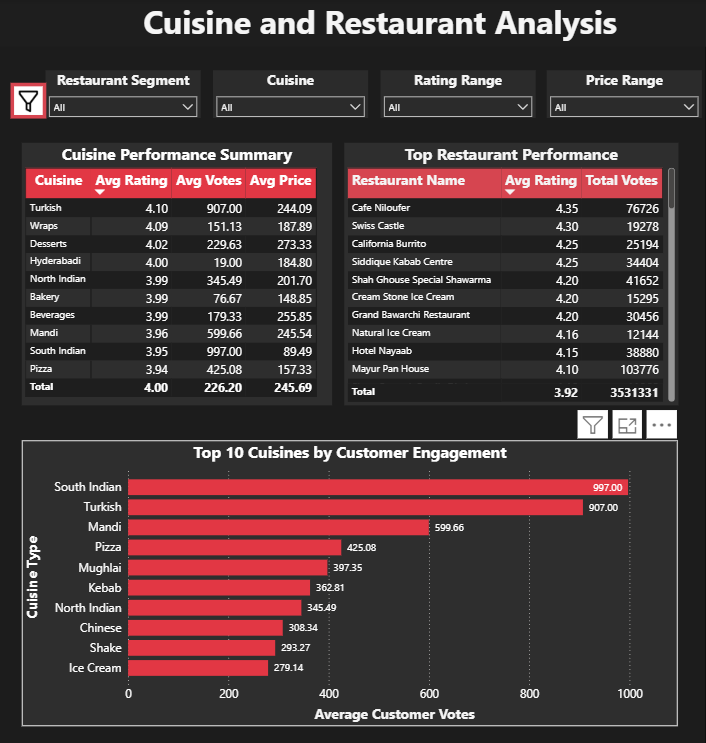

The page's visual inventory and layout, read from the dashboard file:
{"tool":"powerbi","page":{"name":"Page 2","canvas":[950,1000],"ordinal":1},"visuals":[{"type":"pivotTable","title":"Cuisine Performance Summary","fields":{"Rows":["zomato_final.cuisine"],"Values":["Avg(zomato_final.avg_rating)","Avg(zomato_final.total_votes)","Avg(zomato_final.price)"]},"box":[32,192,416,352],"z":0},{"type":"actionButton","box":[0,0,100,40],"z":1000},{"type":"pivotTable","title":"Top Restaurant Performance","fields":{"Rows":["zomato_hyderabad_cleaned.restaurant_name"],"Values":["Avg(zomato_hyderabad_cleaned.avg_rating)","Sum(zomato_hyderabad_cleaned.total_votes)"]},"box":[464,192,448,352],"z":2000},{"type":"slicer","title":"Restaurant Segment","fields":{"Values":["zomato_final.segment"]},"box":[64,96,208,80],"z":3000},{"type":"slicer","title":"Cuisine","fields":{"Values":["zomato_final.cuisine"]},"box":[288,96,208,80],"z":4000},{"type":"slicer","title":"Rating Range","fields":{"Values":["zomato_final.avg_rating"]},"box":[512,96,208,80],"z":5000},{"type":"slicer","title":"Price Range","fields":{"Values":["zomato_final.price"]},"box":[736,96,208,80],"z":6000},{"type":"clusteredBarChart","title":"Top 10 Cuisines by Customer Engagement","fields":{"Category":["zomato_final.cuisine"],"Y":["Avg(zomato_final.total_votes)"]},"box":[32,576,880,400],"z":7000},{"type":"textbox","title":"Cuisine and Restaurant Analysis","box":[-74,0,1024,64],"z":8000},{"type":"image","box":[16,112,48,48],"z":9000}]}

Visuals, with their boxes in screenshot pixels (x1, y1, x2, y2), scaled from the page's 950x1000 canvas onto the 706x743 screenshot:
"Cuisine Performance Summary" pivotTable: (x1=24, y1=143, x2=333, y2=404)
actionButton: (x1=0, y1=0, x2=74, y2=30)
"Top Restaurant Performance" pivotTable: (x1=345, y1=143, x2=678, y2=404)
"Restaurant Segment" slicer: (x1=48, y1=71, x2=202, y2=131)
"Cuisine" slicer: (x1=214, y1=71, x2=369, y2=131)
"Rating Range" slicer: (x1=380, y1=71, x2=535, y2=131)
"Price Range" slicer: (x1=547, y1=71, x2=702, y2=131)
"Top 10 Cuisines by Customer Engagement" clusteredBarChart: (x1=24, y1=428, x2=678, y2=725)
"Cuisine and Restaurant Analysis" textbox: (x1=0, y1=0, x2=705, y2=48)
image: (x1=12, y1=83, x2=48, y2=119)
